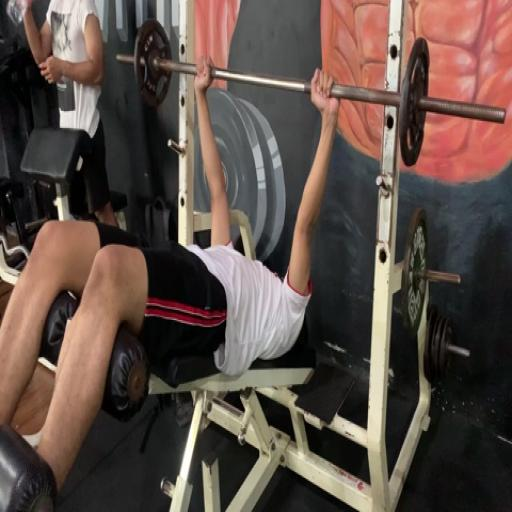exercise: (0, 54, 343, 510), (15, 0, 124, 230)
